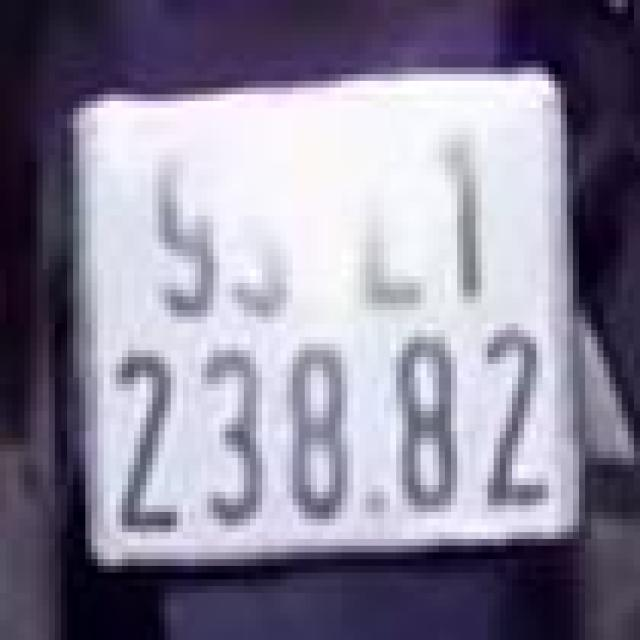1: (432, 121, 488, 317)
2: (110, 347, 189, 536), (482, 323, 554, 512)
3: (195, 340, 268, 529)
8: (390, 330, 463, 519), (284, 334, 356, 522)
9: (228, 135, 296, 323), (153, 135, 220, 323)
L: (335, 121, 427, 317)
